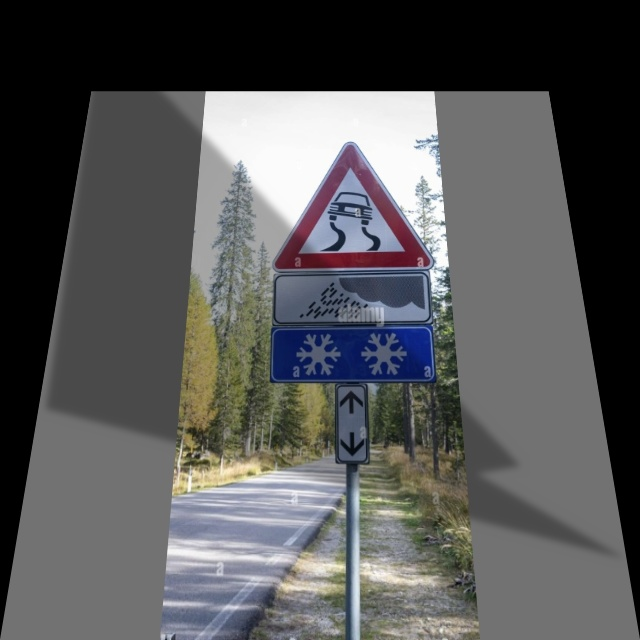Slippery_Road: (279, 143, 426, 265)
